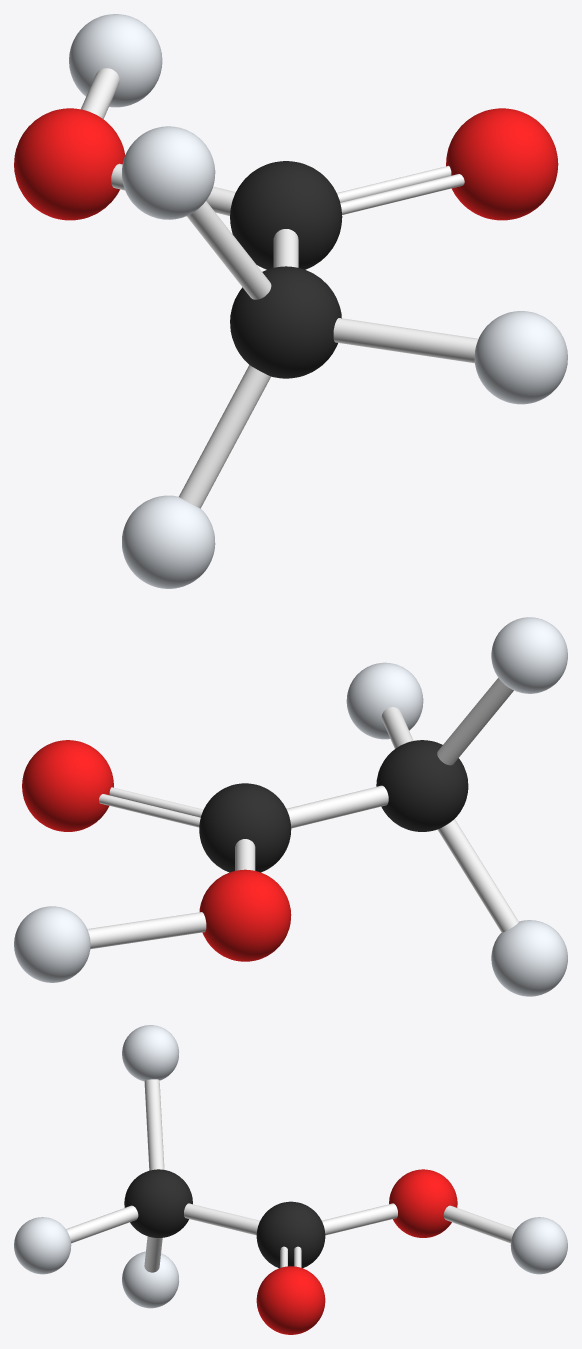
File: acetic_acid.fbx
3 views of the same model, one above another, from view 1: azimuth 30°, elevation 25°; view 2: azimuth 150°, elevation 25°; view 3: azimuth 270°, elevation 25° (orthographic). The views are drawn at different scales.
Visible parts, largest first — view 1: alkanoic_acid; view 2: alkanoic_acid; view 3: alkanoic_acid.
Part boxes in pixels (box(x1,y1,x2,y2)): alkanoic_acid: box(14, 14, 567, 588); alkanoic_acid: box(14, 617, 567, 996); alkanoic_acid: box(14, 1025, 567, 1334).
Bounding box in the file's own units: 199 × 161 × 290.
